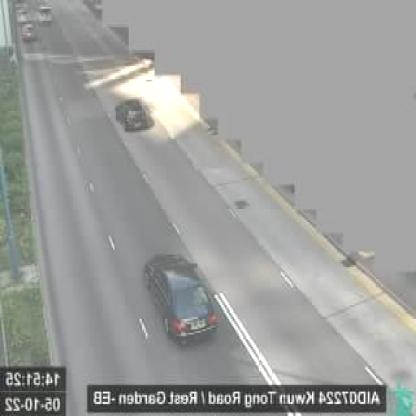Car: (146, 252, 218, 343), (118, 99, 148, 130), (23, 22, 36, 43), (39, 5, 52, 24)
